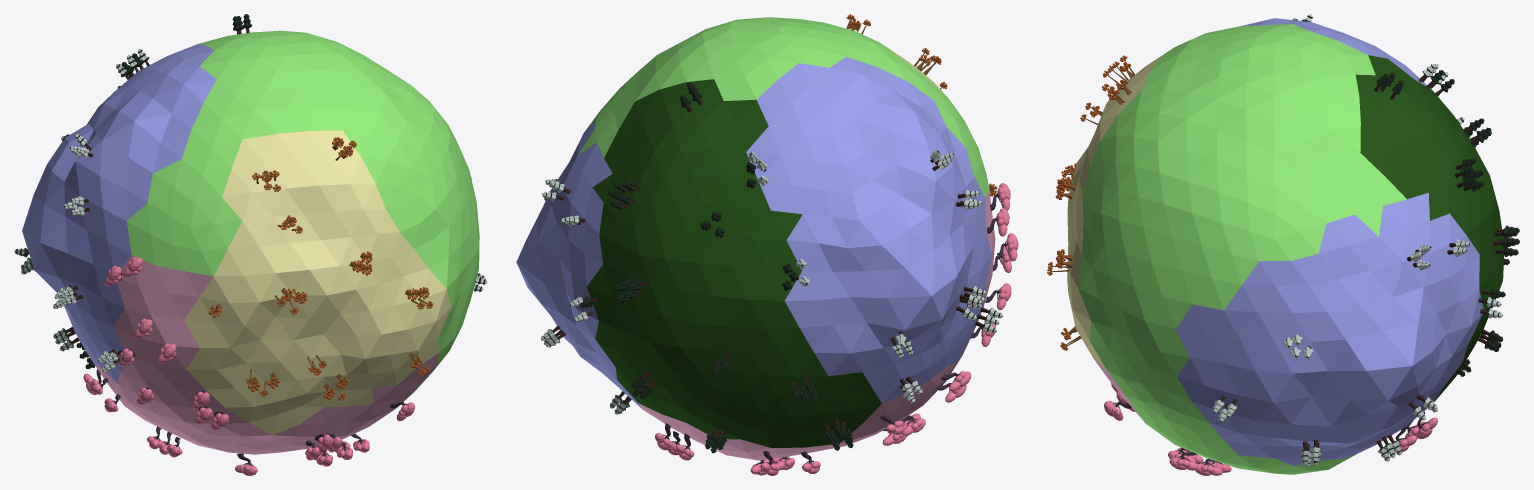
Rendered from planettest1.fbx.
The picture shows the model from 3 angles, left to right: view 1: azimuth 30°, elevation 25°; view 2: azimuth 150°, elevation 25°; view 3: azimuth 270°, elevation 25°; orthographic projection. The views are drawn at different scales.
Parts seen in each view (by area): view 1: Planet; view 2: Planet; view 3: Planet.
Part boxes in pixels (x1,y1,x2,y2): Planet: (22,30,479,454); Planet: (516,17,995,460); Planet: (1067,18,1504,474).
Bounding box in the file's own units: 1350 × 1262 × 1269.
